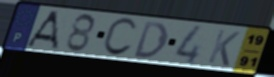4: (173, 24, 203, 66)
8: (63, 13, 98, 54)
A: (24, 10, 62, 52)
C: (100, 17, 140, 58)
D: (132, 20, 170, 60)
K: (205, 28, 242, 69)
